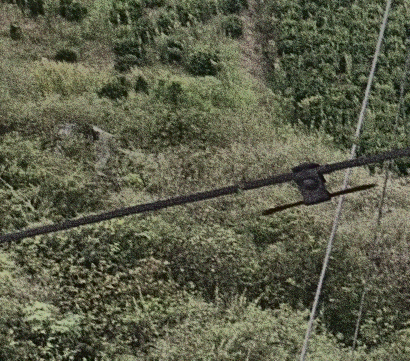damper_defect: (258, 159, 381, 220)
